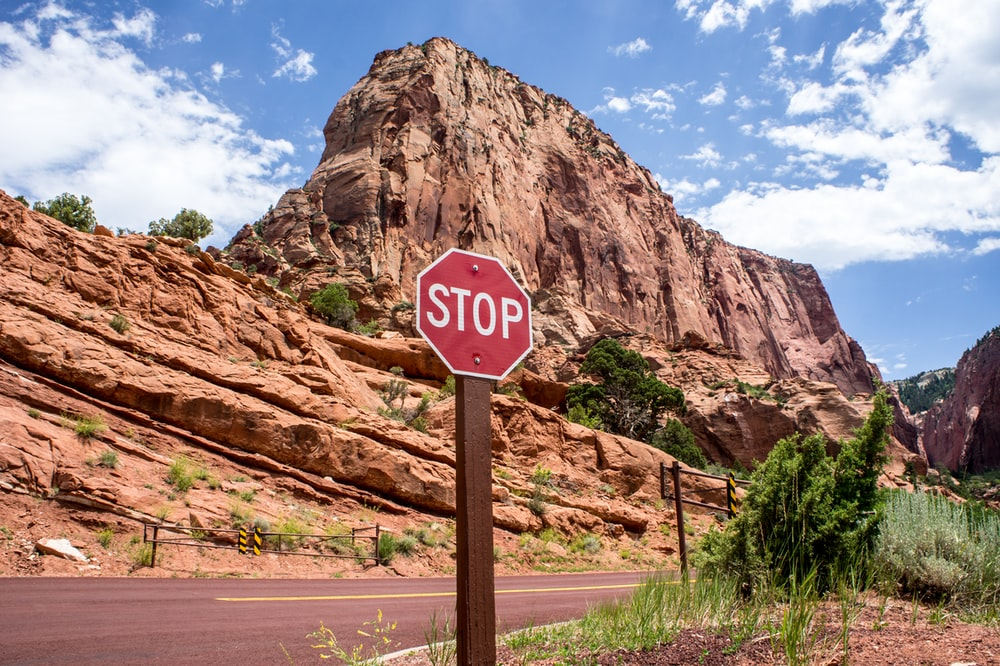stop: (410, 239, 542, 387)
